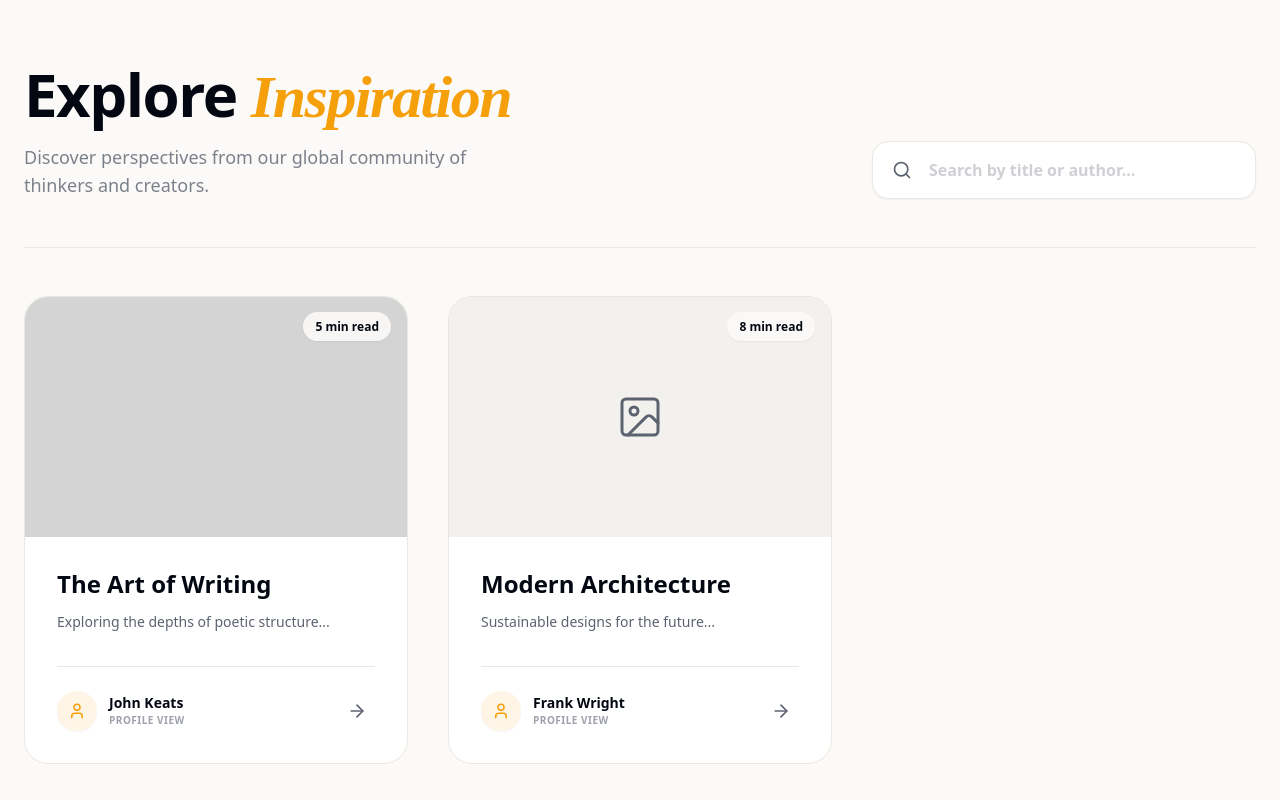
Test: Browse Page › shows empty state when no posts match search
Check: the heading "The Art of Writing" is shown, box [57, 567, 272, 600]
In the field with placeholder "Search by title or author...": (1064, 170) [872, 141, 1256, 199], type "Nonexistent"
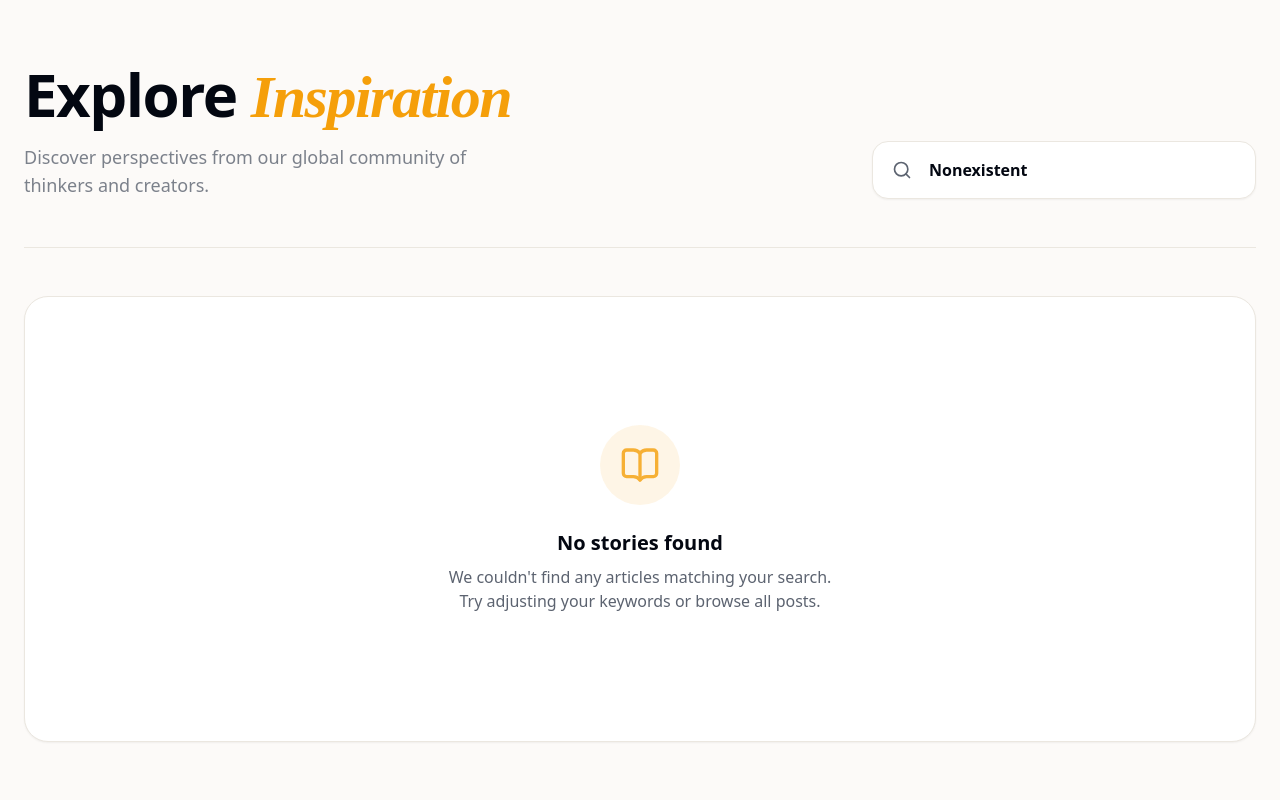
Check: the text "No stories found" is shown, box [557, 529, 723, 556]
